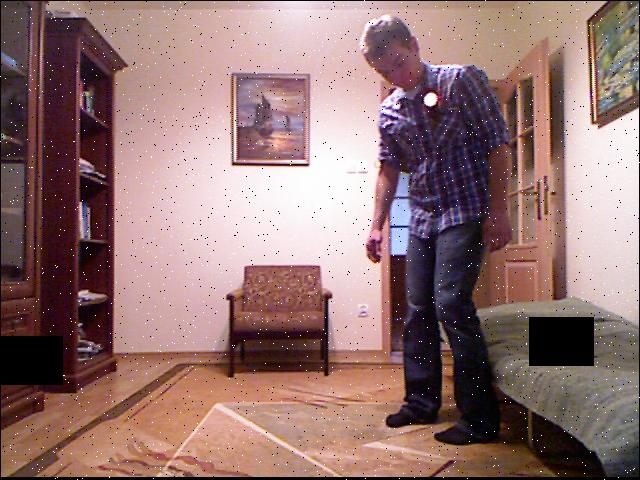walking: (354, 13, 506, 431)
